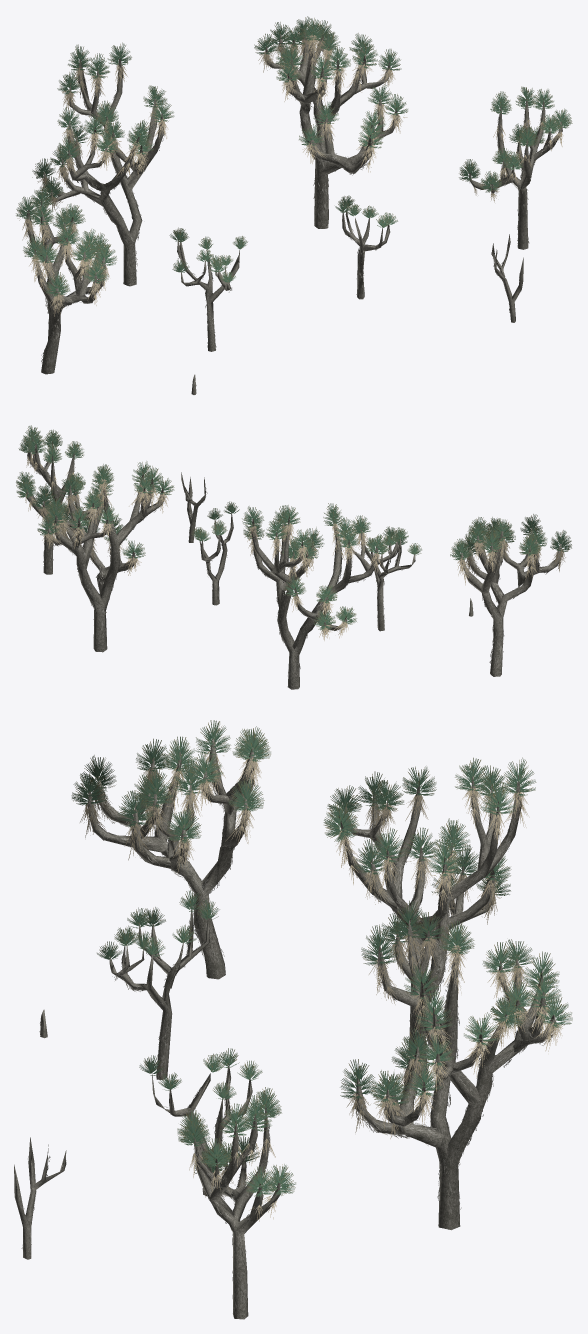
Rendered from joshua.glb.
3 views of the same model, one above another, from view 1: azimuth 30°, elevation 25°; view 2: azimuth 150°, elevation 25°; view 3: azimuth 270°, elevation 25° (orthographic). The views are drawn at different scales.
Parts seen in each view (by area): view 1: joshua leaf 01_2_joshua leaf 01_2Mat_0, joshua bark_0_joshua bark_0Mat_0, joshua leaf 02_3_joshua leaf 02_3Mat_0, joshua tree fuzz_1_joshua tree fuzz_1Mat_0; view 2: joshua bark_0_joshua bark_0Mat_0, joshua leaf 01_2_joshua leaf 01_2Mat_0, joshua leaf 02_3_joshua leaf 02_3Mat_0, joshua tree fuzz_1_joshua tree fuzz_1Mat_0; view 3: joshua bark_0_joshua bark_0Mat_0, joshua leaf 01_2_joshua leaf 01_2Mat_0, joshua leaf 02_3_joshua leaf 02_3Mat_0, joshua tree fuzz_1_joshua tree fuzz_1Mat_0.
Part boxes in pixels (x1,y1,x2,y2): joshua leaf 01_2_joshua leaf 01_2Mat_0: [16, 16, 572, 296]; joshua bark_0_joshua bark_0Mat_0: [26, 29, 562, 394]; joshua leaf 02_3_joshua leaf 02_3Mat_0: [17, 34, 563, 316]; joshua tree fuzz_1_joshua tree fuzz_1Mat_0: [26, 45, 560, 393]; joshua bark_0_joshua bark_0Mat_0: [26, 437, 561, 689]; joshua leaf 01_2_joshua leaf 01_2Mat_0: [16, 425, 571, 630]; joshua leaf 02_3_joshua leaf 02_3Mat_0: [25, 452, 565, 640]; joshua tree fuzz_1_joshua tree fuzz_1Mat_0: [27, 453, 560, 679]; joshua bark_0_joshua bark_0Mat_0: [14, 739, 555, 1319]; joshua leaf 01_2_joshua leaf 01_2Mat_0: [71, 720, 572, 1196]; joshua leaf 02_3_joshua leaf 02_3Mat_0: [80, 751, 562, 1221]; joshua tree fuzz_1_joshua tree fuzz_1Mat_0: [21, 761, 552, 1313].
Bounding box in the file's own units: 11.16 × 4.12 × 6.61.
Materials: 4 (4 with a texture image).
